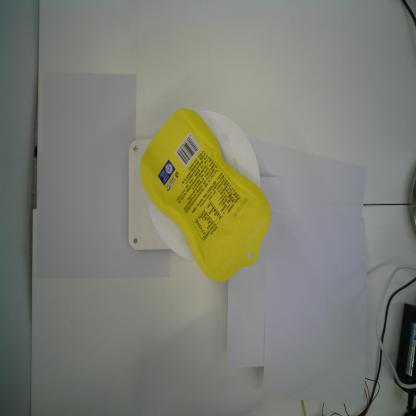Dried Fruit: (140, 107, 272, 284)
